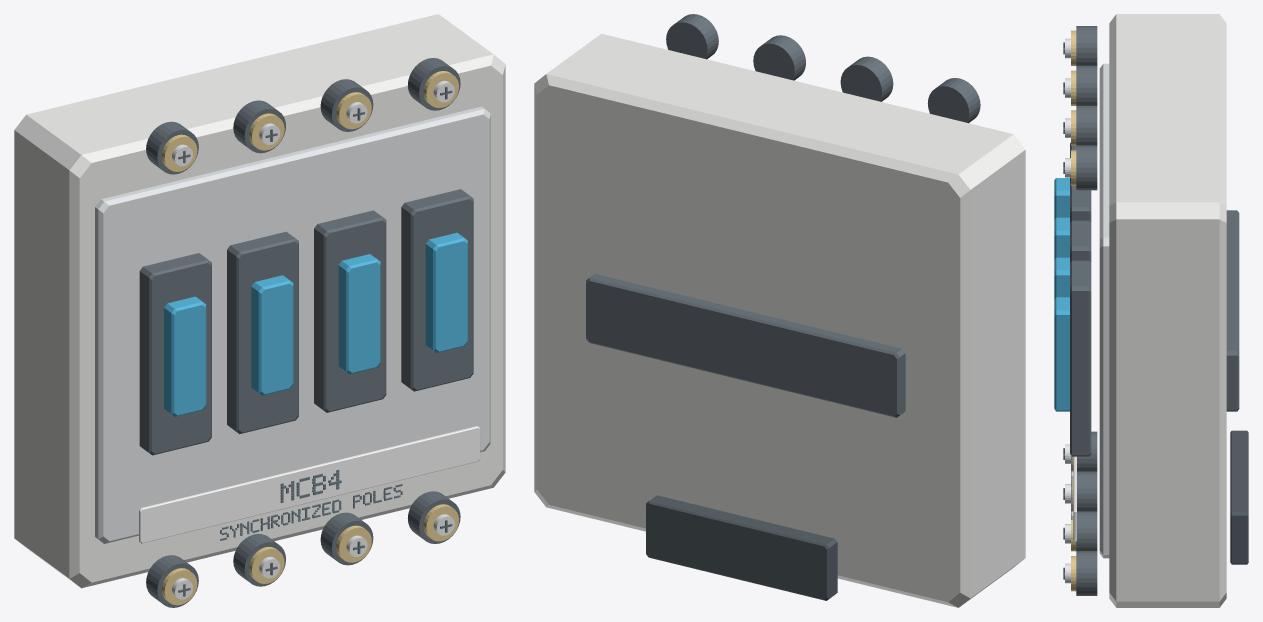
Rendered from mcb4P.glb.
3 renders of one model, left to right at view 1: azimuth 30°, elevation 25°; view 2: azimuth 150°, elevation 25°; view 3: azimuth 270°, elevation 25°, orthographic. The views are drawn at different scales.
Parts seen in each view (by area): view 1: mcb4P-detailed; view 2: mcb4P-detailed; view 3: mcb4P-detailed.
Boxes of the visible parts, bbox=[...] form: mcb4P-detailed: bbox=[14, 14, 505, 607]; mcb4P-detailed: bbox=[534, 14, 1025, 607]; mcb4P-detailed: bbox=[1054, 14, 1248, 607].
Size of the model in its own units: 3.29 by 3.44 by 1.36.
